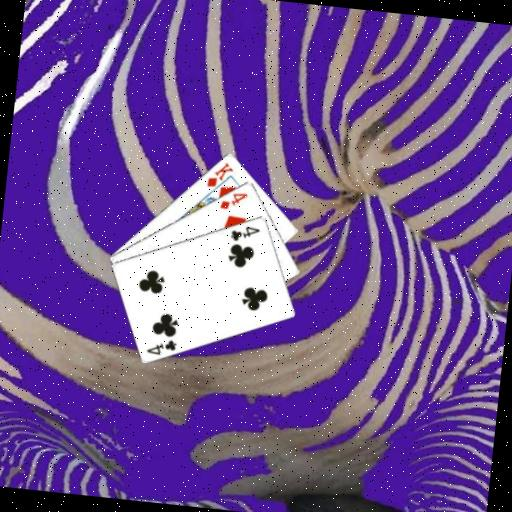4C: (143, 334, 179, 358), (227, 221, 262, 245)
4D: (217, 187, 250, 213)
KD: (204, 157, 236, 190)
